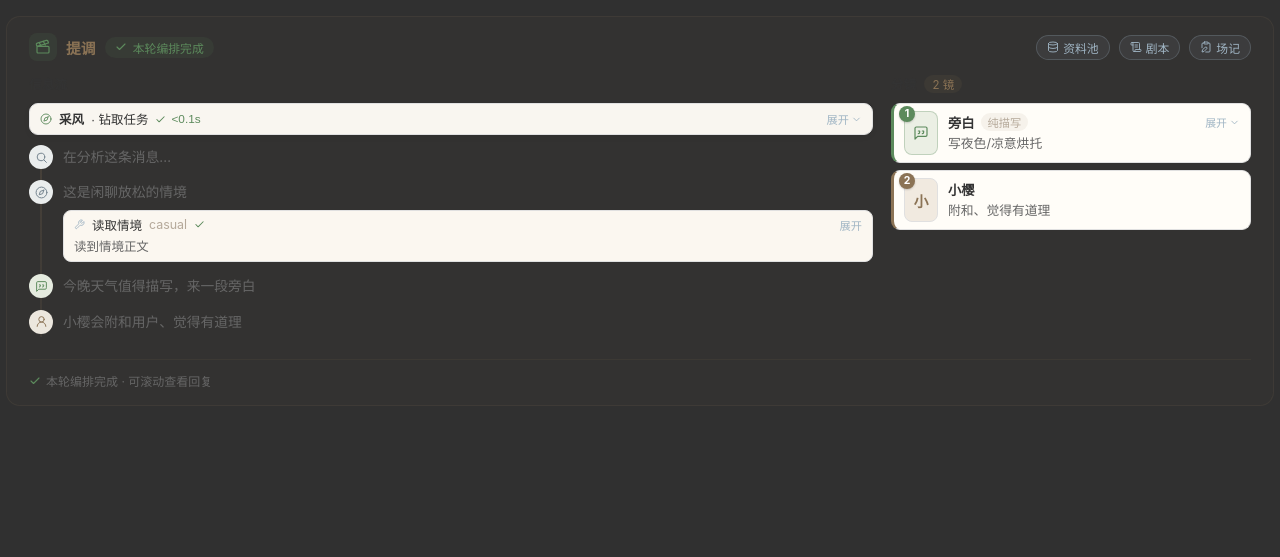
Test: TidiaoDirectorStreamBand › 派遣子agent运行卡（采风/造册/绘舆·委托 SubagentDispatchCardList 渲染） › 切轮（roundKey 变）：派遣卡展开态复位收起
Click the button with class "tds-script-head".
click(120, 120)  # box [30,104,872,134]
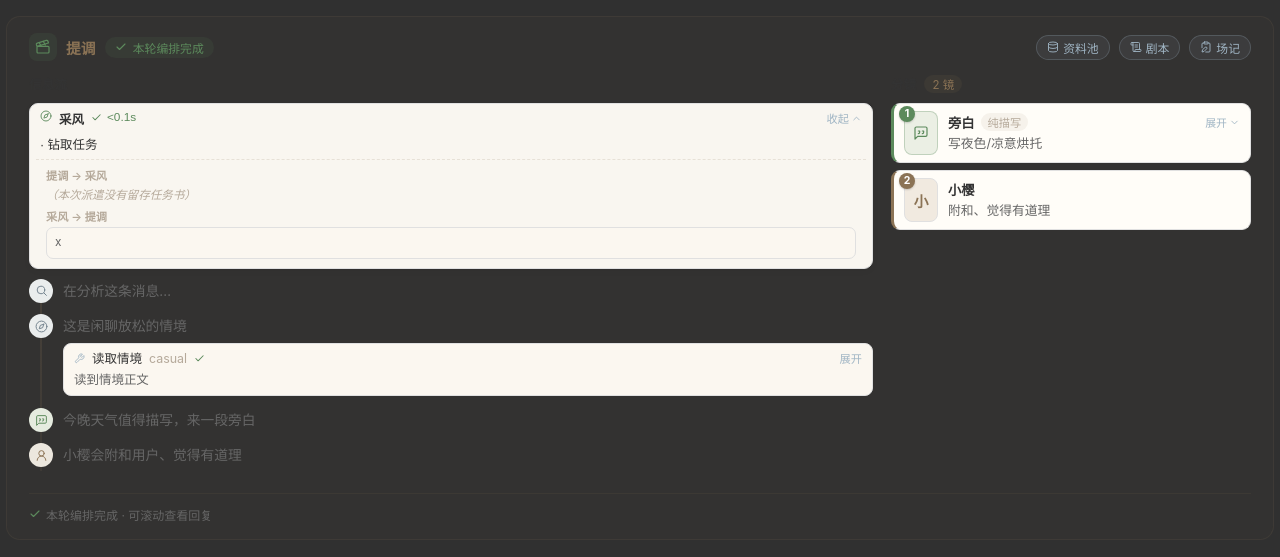
Now the element with class "tds-script-body" is shown, box [36,159,866,268]
